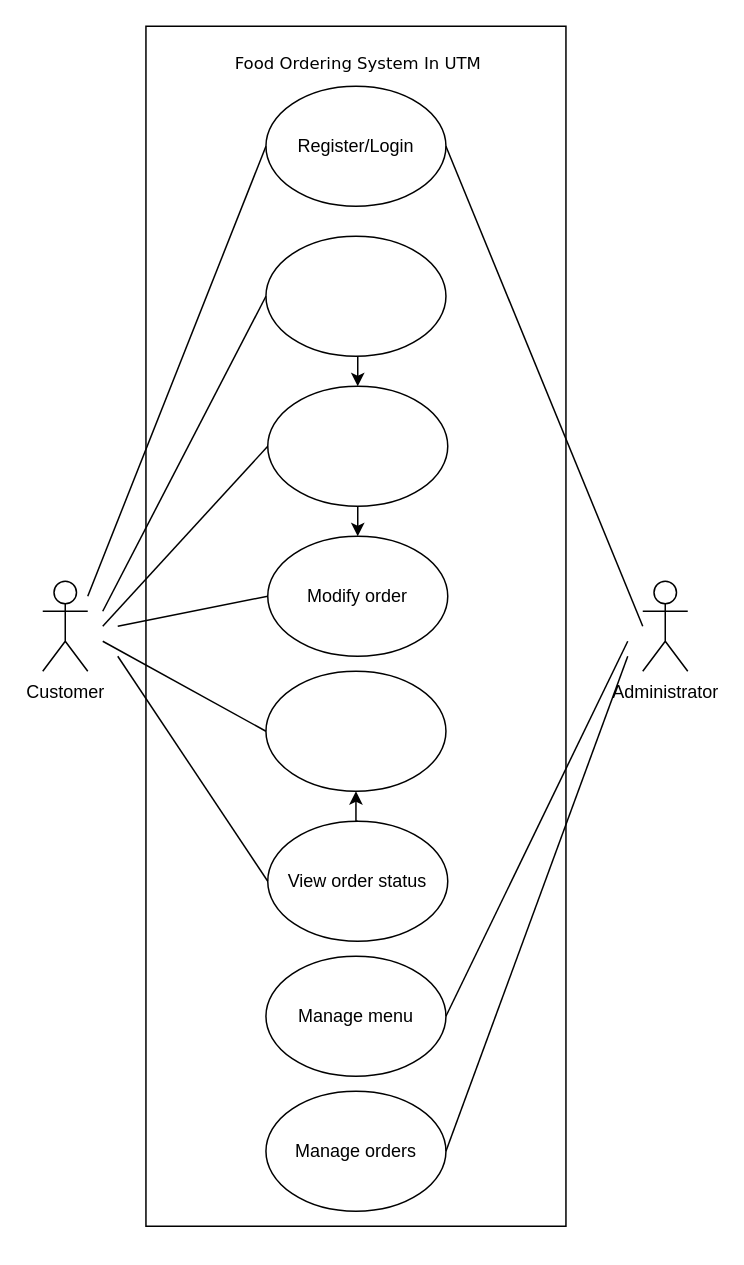
Some shapes in this 744 by 1265 pixel diagram are drawn without their labels. The box of each missing label's shape, as (x1, y1, x2, y2) in pixels:
Browse menu: (264, 235, 446, 356)
Cancel order: (264, 670, 446, 791)
Place order: (266, 385, 448, 506)
